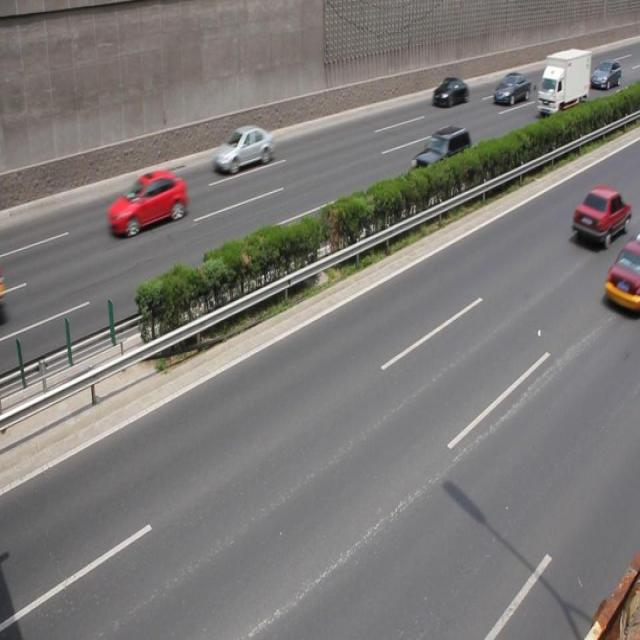bus: (535, 51, 590, 115)
car: (106, 172, 188, 239), (411, 125, 471, 194), (571, 187, 628, 247), (212, 124, 274, 176), (600, 238, 640, 313), (492, 70, 531, 104), (432, 76, 467, 107), (588, 59, 619, 92)
